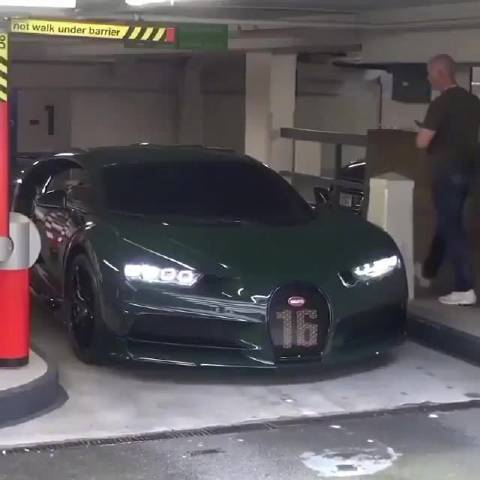other: (23, 142, 413, 380)
